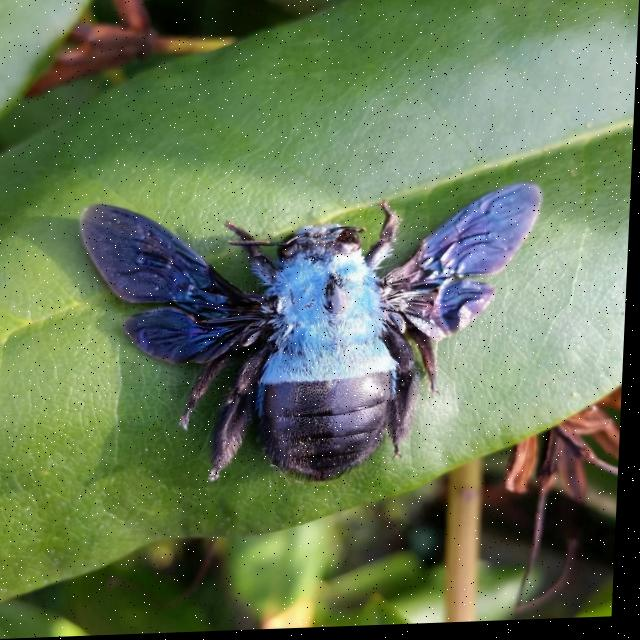Xylocopa: (70, 172, 552, 503)
